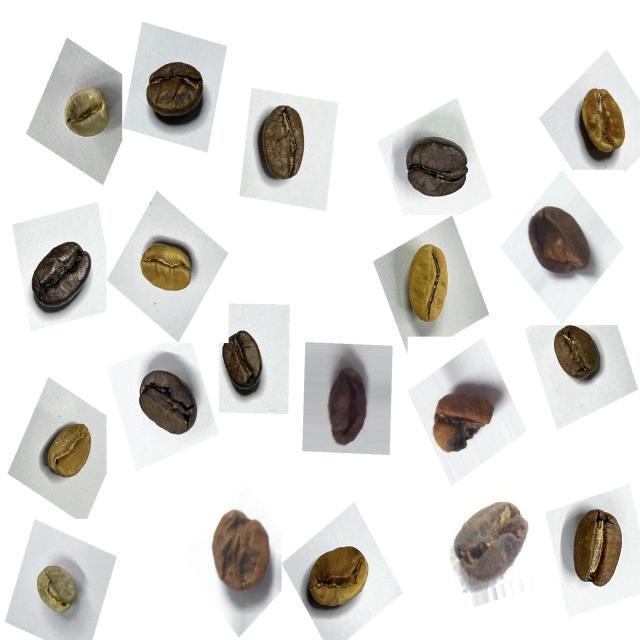bad: (194, 500, 280, 607), (448, 492, 536, 596), (310, 348, 382, 460), (423, 370, 507, 464), (518, 192, 600, 287)
dark: (21, 226, 102, 324), (396, 119, 475, 211), (126, 359, 204, 450), (210, 318, 274, 407), (544, 318, 607, 392)
green: (54, 74, 118, 154), (27, 555, 87, 628)
light: (297, 530, 381, 620), (390, 235, 464, 337), (566, 76, 639, 171), (133, 226, 207, 310), (35, 405, 107, 491)
medium: (560, 498, 638, 601), (248, 96, 326, 194), (138, 52, 213, 136)
